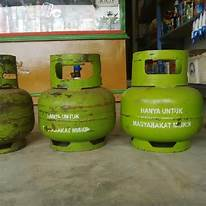gas_ijo: (120, 50, 203, 155), (38, 53, 115, 153), (1, 54, 35, 155)
